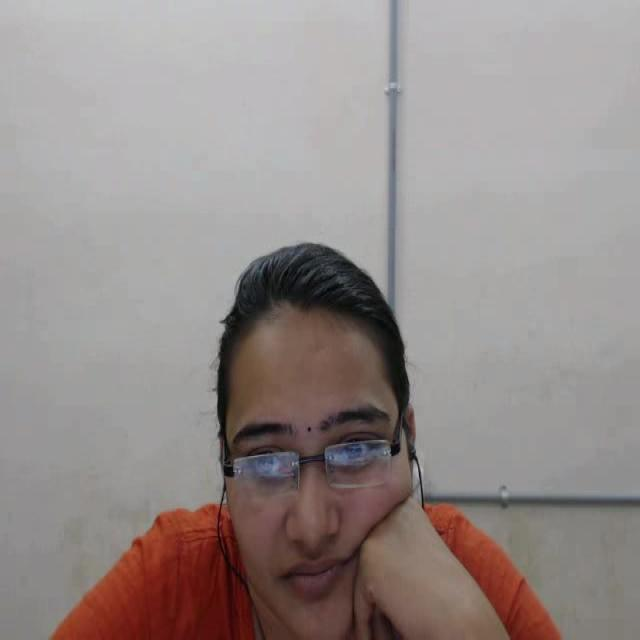Bored: (168, 220, 477, 640)
